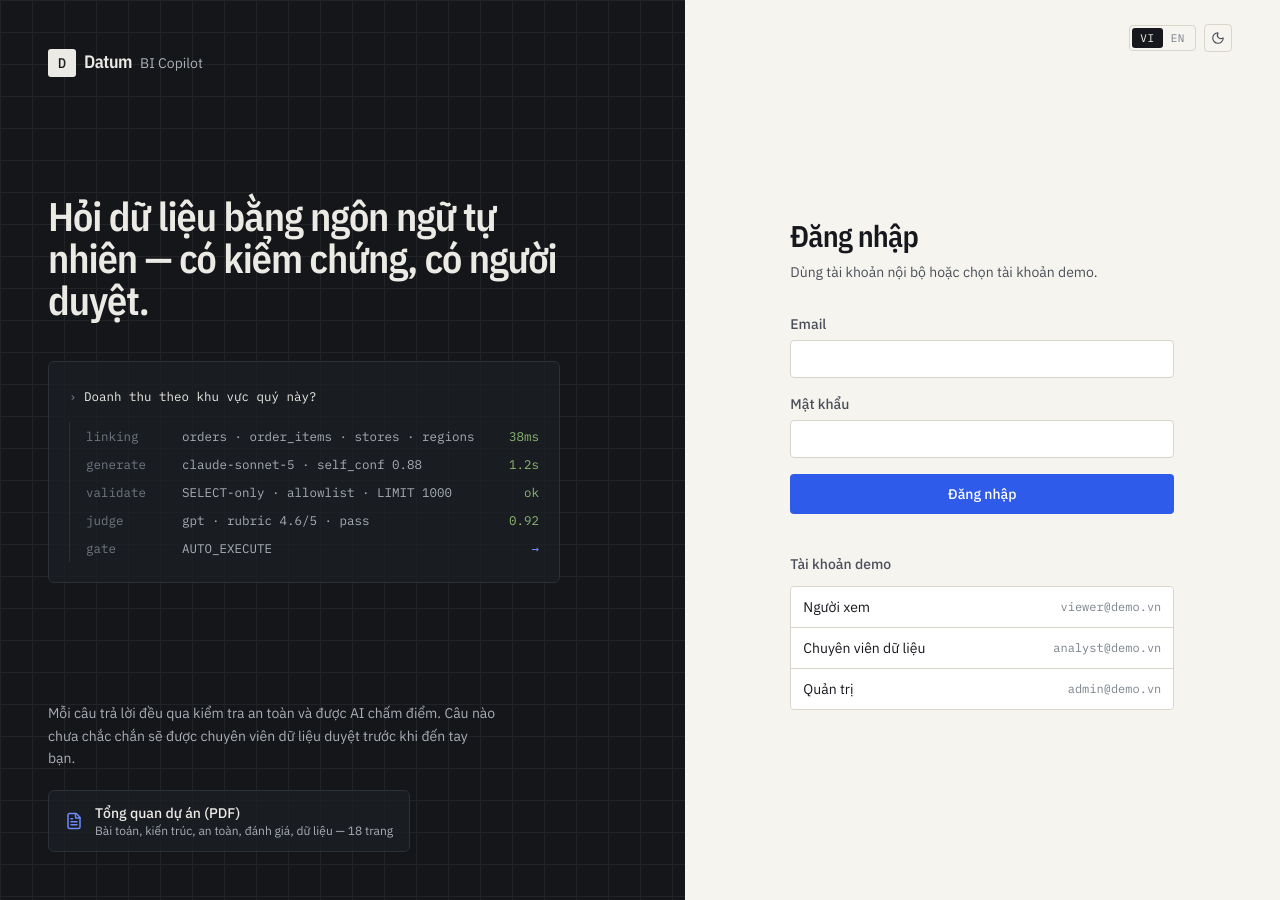
Test case: routing & login › signs in and lands on the ask page
Type "viewer@demo.vn" into the field labelled "Email".
click(982, 359); type("viewer@demo.vn")  # box [790, 340, 1174, 378]
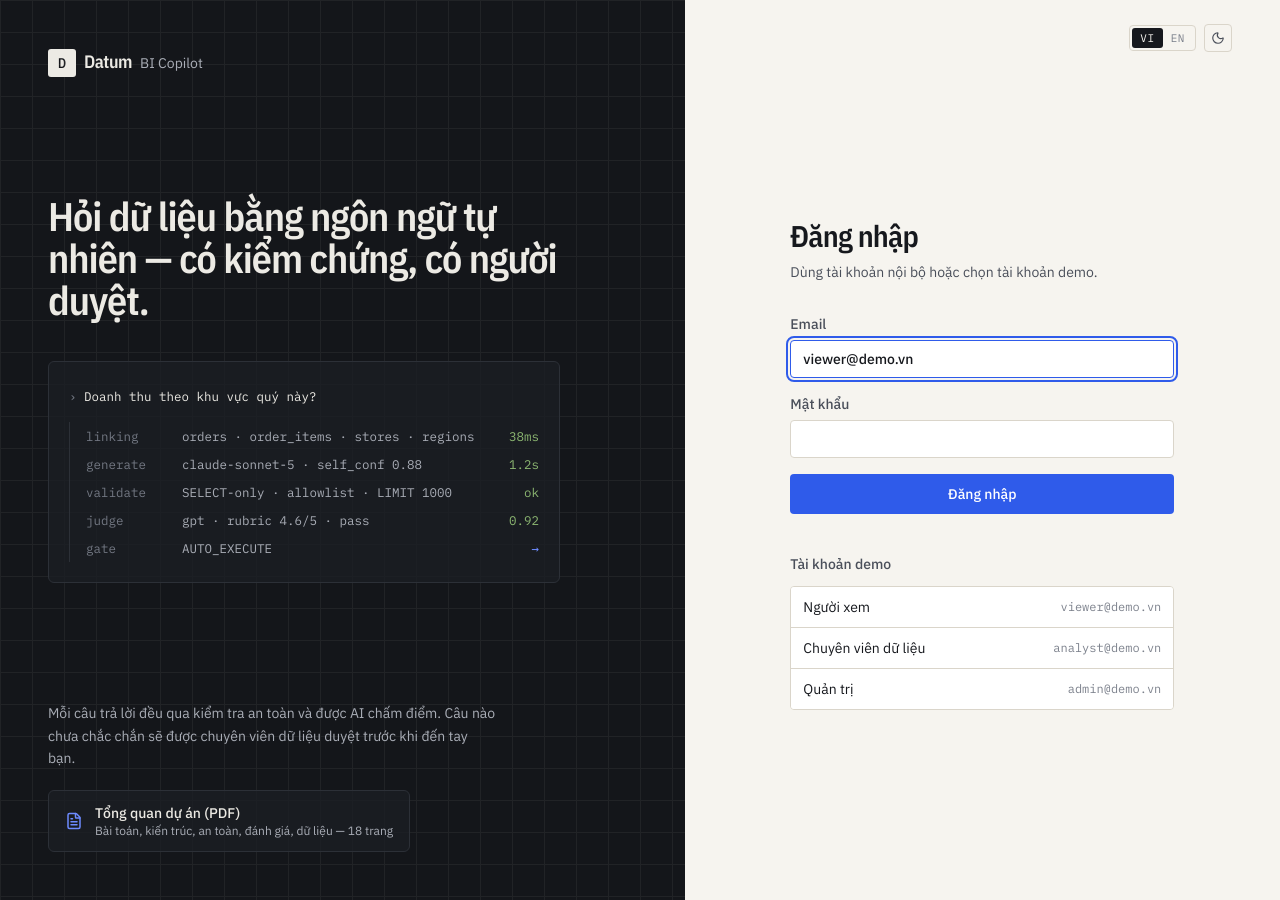
Type "demo1234" into the password field labelled "Mật khẩu".
click(982, 439); type("demo1234")  # box [790, 420, 1174, 458]
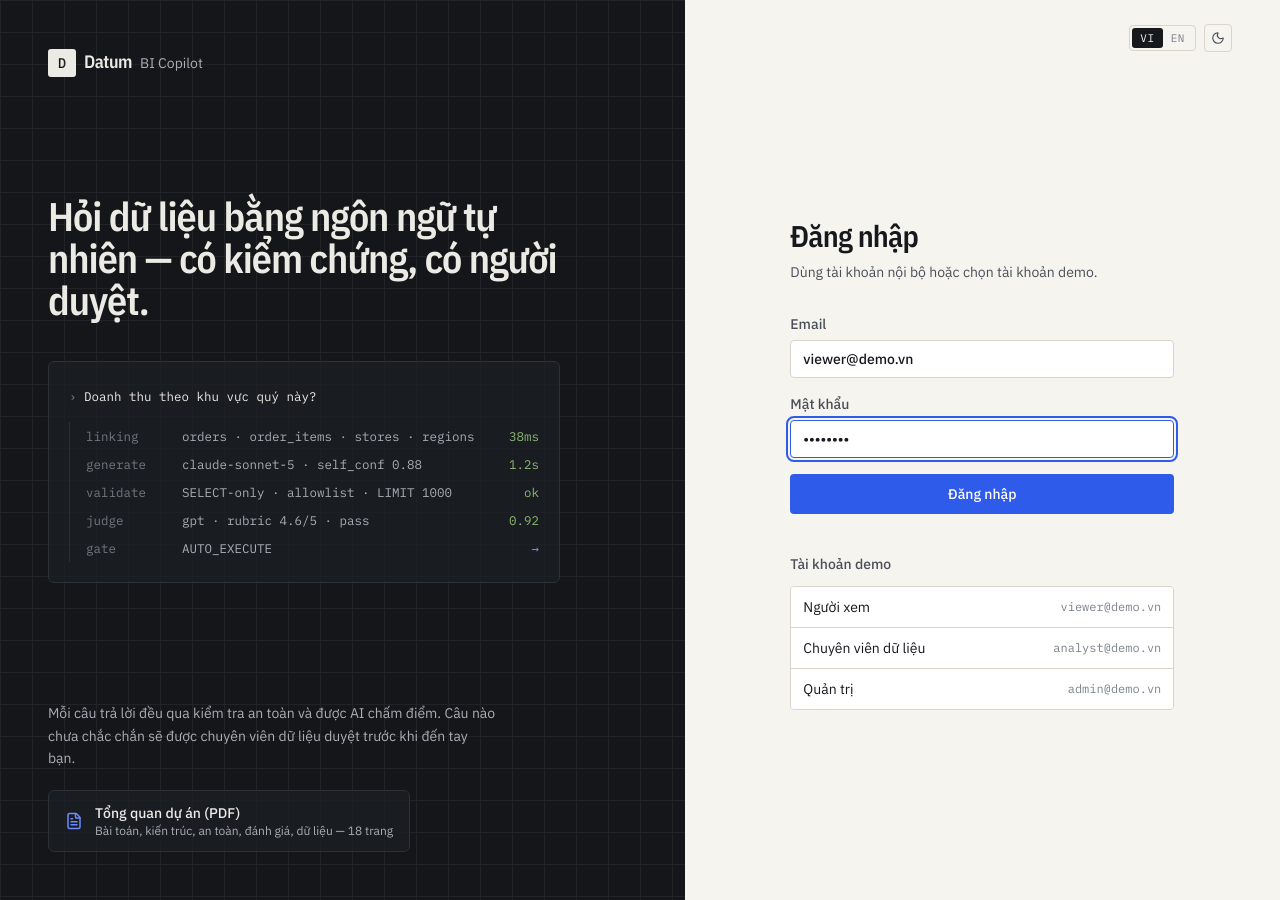
Click the button "Đăng nhập".
click(982, 494)  # box [790, 474, 1174, 514]
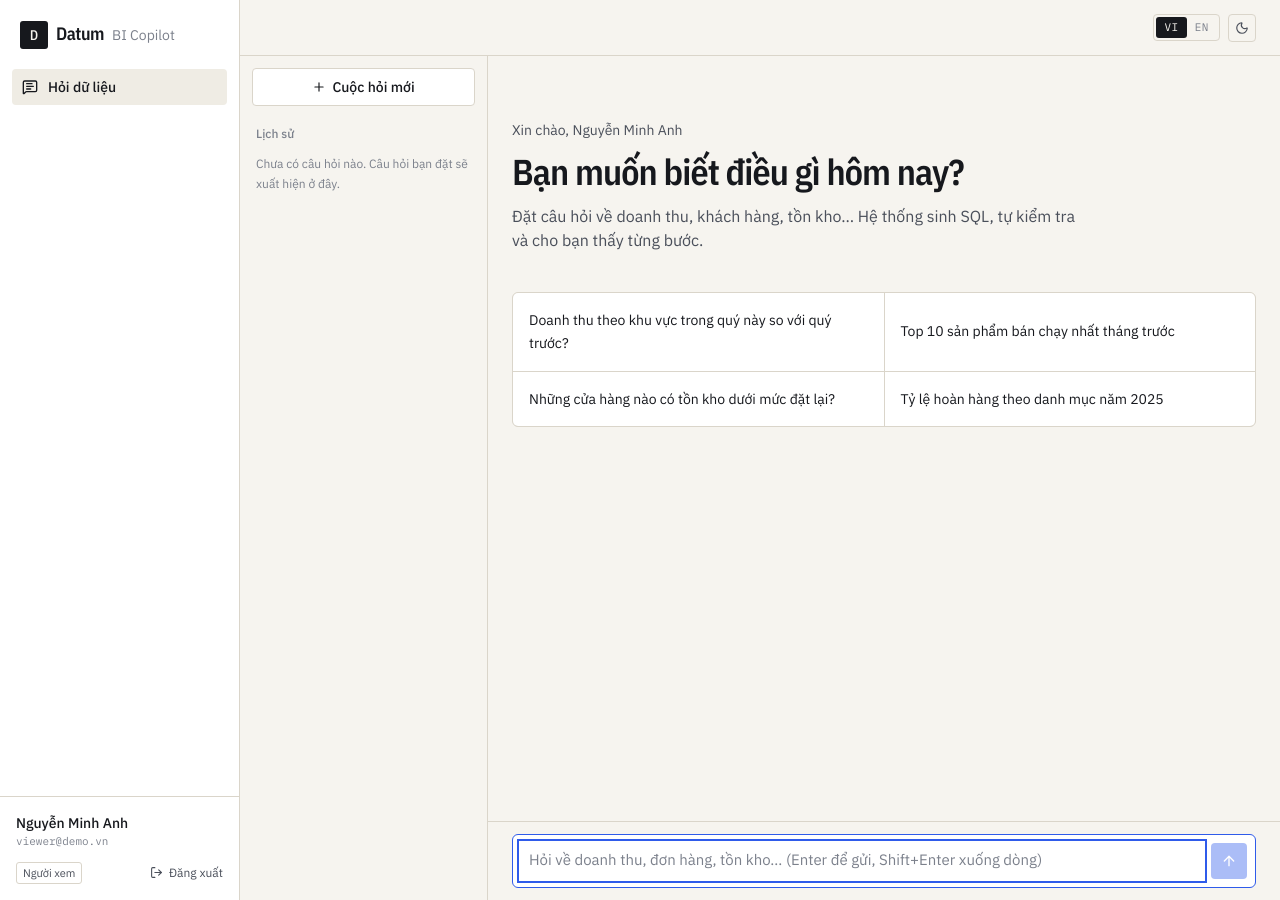
Check: the heading "Bạn muốn biết điều gì hôm nay?" is shown, box [512, 148, 964, 195]
